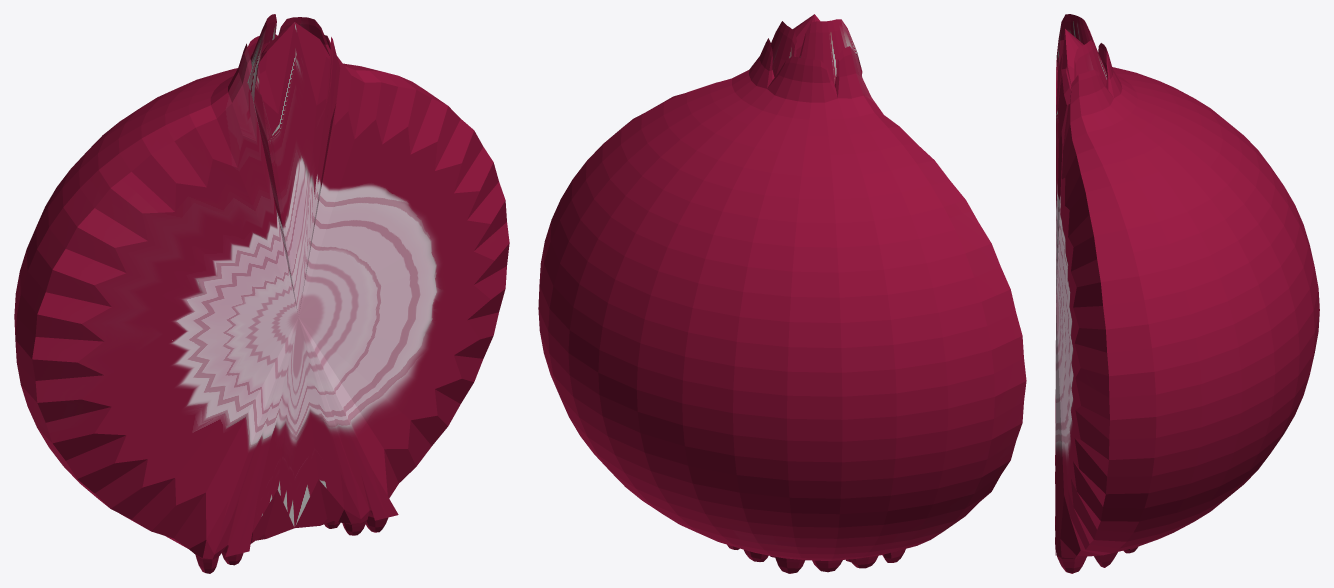
File: Onion3.fbx
3 renders of one model, left to right at view 1: azimuth 30°, elevation 25°; view 2: azimuth 150°, elevation 25°; view 3: azimuth 270°, elevation 25°, orthographic. The views are drawn at different scales.
Visible parts, largest first — view 1: Sphere; view 2: Sphere; view 3: Sphere.
Part boxes in pixels (x1,y1,x2,y2): Sphere: (14, 14, 509, 573); Sphere: (538, 14, 1026, 573); Sphere: (1055, 14, 1319, 573).
Bounding box in the file's own units: 386 × 415 × 196.
